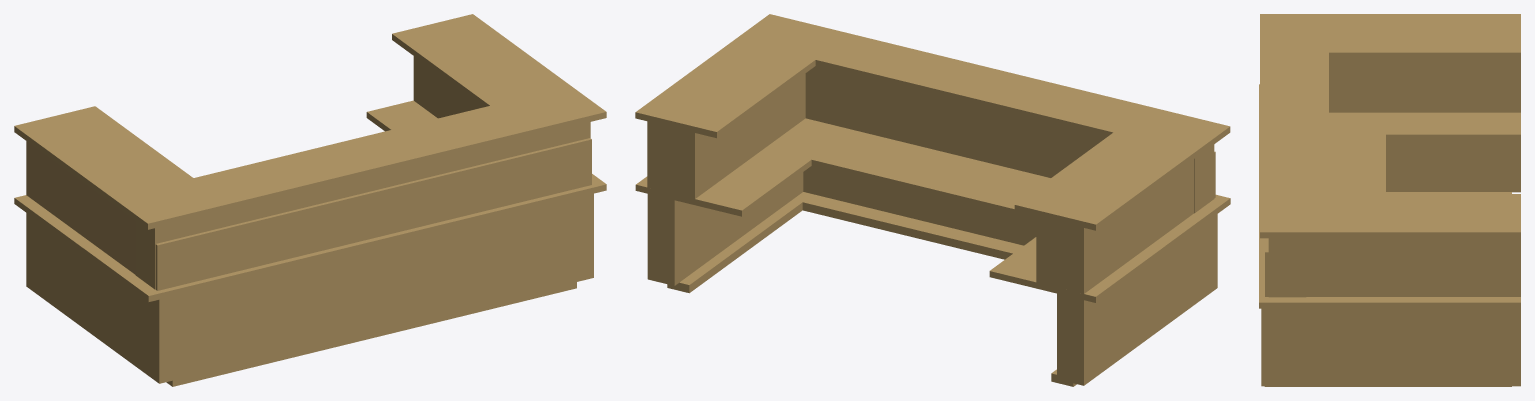
Rendered from IslandDesk.fbx.
The picture shows the model from 3 angles, left to right: view 1: azimuth 30°, elevation 25°; view 2: azimuth 150°, elevation 25°; view 3: azimuth 270°, elevation 25°; orthographic projection. The views are drawn at different scales.
Visible parts, largest first — view 1: IslandDesk; view 2: IslandDesk; view 3: IslandDesk.
Part boxes in pixels (x1,y1,x2,y2): IslandDesk: (14,14,606,386); IslandDesk: (635,14,1230,386); IslandDesk: (1259,14,1520,386).
Bounding box in the file's own units: 24.45 × 8.74 × 12.39.
